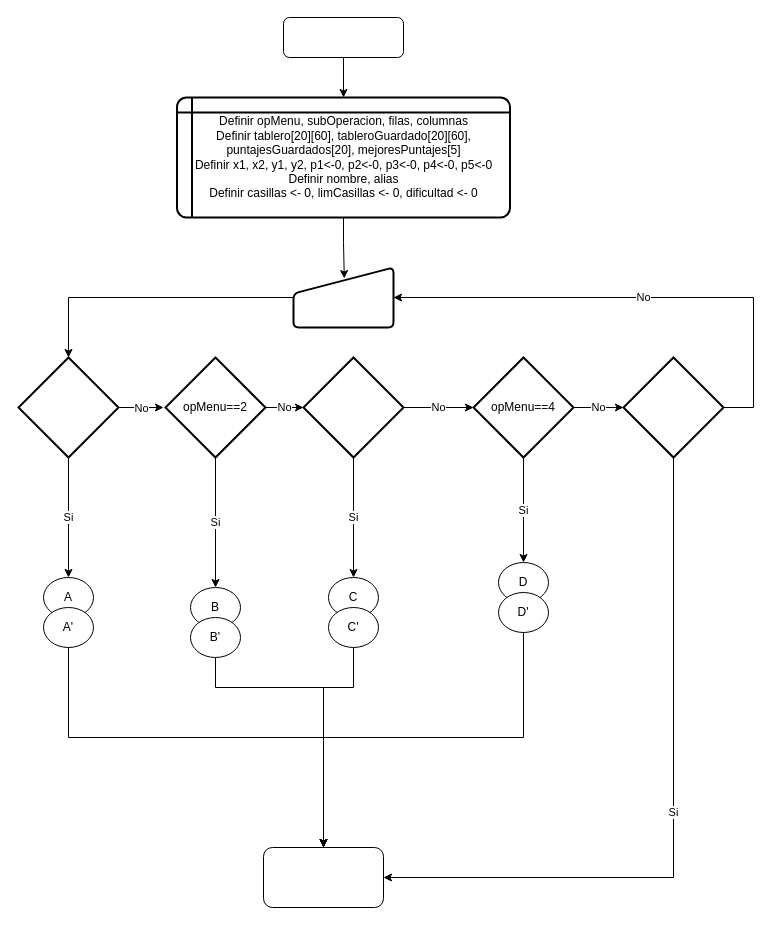
Image size: 779x925. Some labels were removed from this diagram. Here are the shapes that lost their labels. From the top down, the centre of each, then its label:
At point (343, 37): "Inicio".
At point (343, 297): "opMenu".
At point (68, 407): "opMenu==1".
At point (353, 407): "opMenu=3".
At point (673, 407): "opMenu==5".
At point (323, 877): "FIN".
